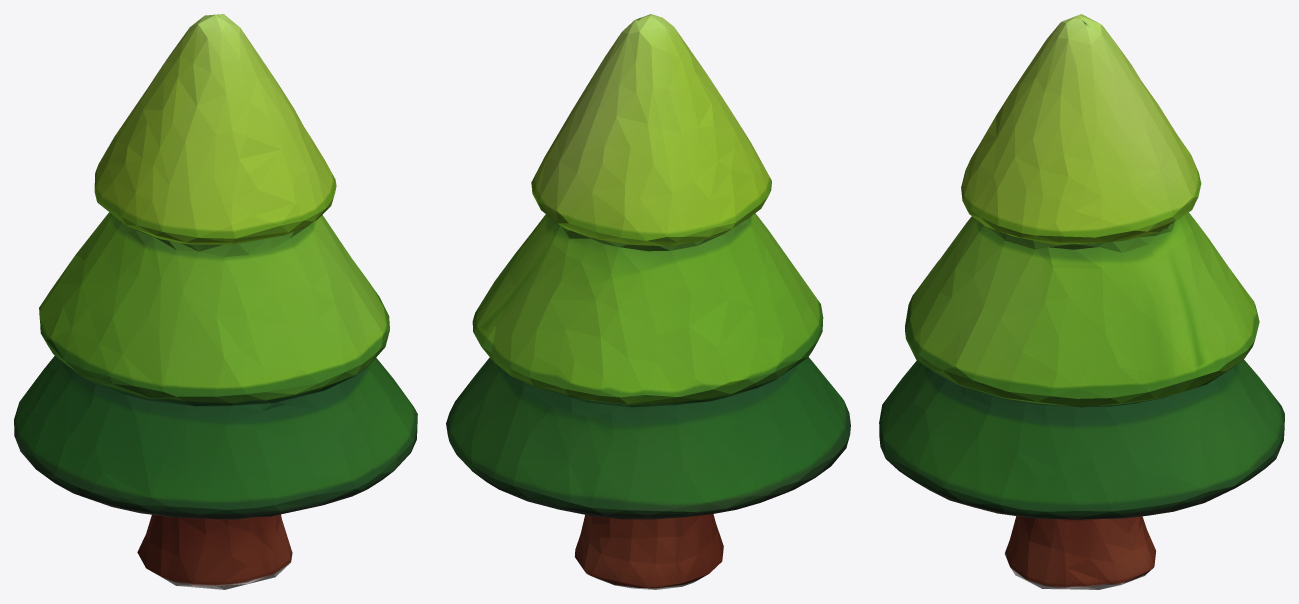
The model's file is tree_5.glb.
3 views of the same model, side by side, from view 1: azimuth 30°, elevation 25°; view 2: azimuth 150°, elevation 25°; view 3: azimuth 270°, elevation 25° (orthographic).
Visible parts, largest first — view 1: tmpuc80pjp9.ply; view 2: tmpuc80pjp9.ply; view 3: tmpuc80pjp9.ply.
Boxes of the visible parts, x1,y1,x2,y2 form: tmpuc80pjp9.ply: [14, 14, 417, 589]; tmpuc80pjp9.ply: [446, 14, 850, 589]; tmpuc80pjp9.ply: [879, 14, 1284, 589].
Bounding box in the file's own units: 1.31 × 1.96 × 1.32.
Materials: 1 (1 with a texture image).
